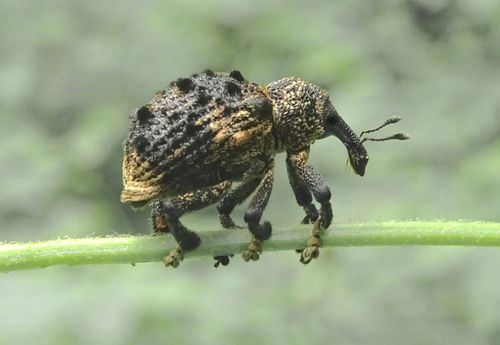Curculionidae: (118, 69, 411, 268)
